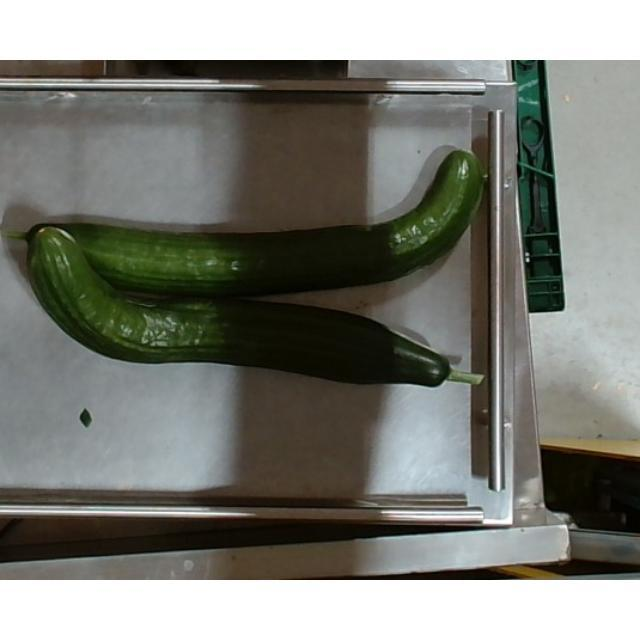cucumber: (26, 226, 484, 390), (8, 149, 486, 299)
